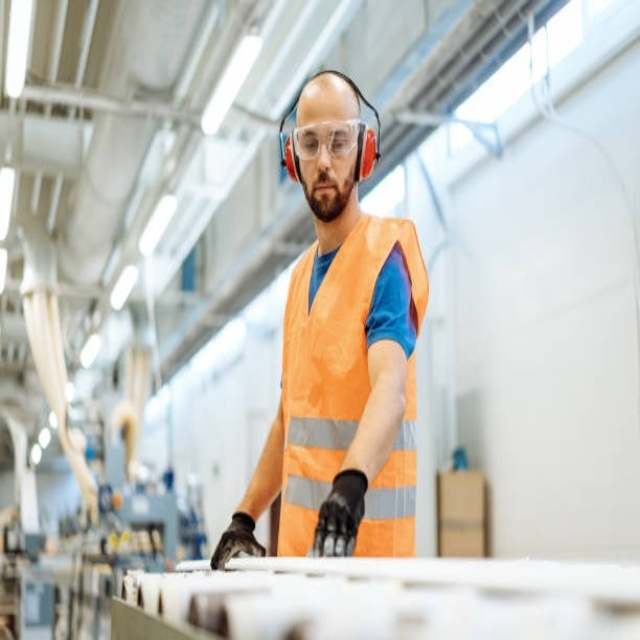Gafas: (289, 119, 369, 161)
Guantes: (308, 469, 367, 557), (211, 512, 266, 570)
Sin_mascara: (304, 173, 342, 205)
